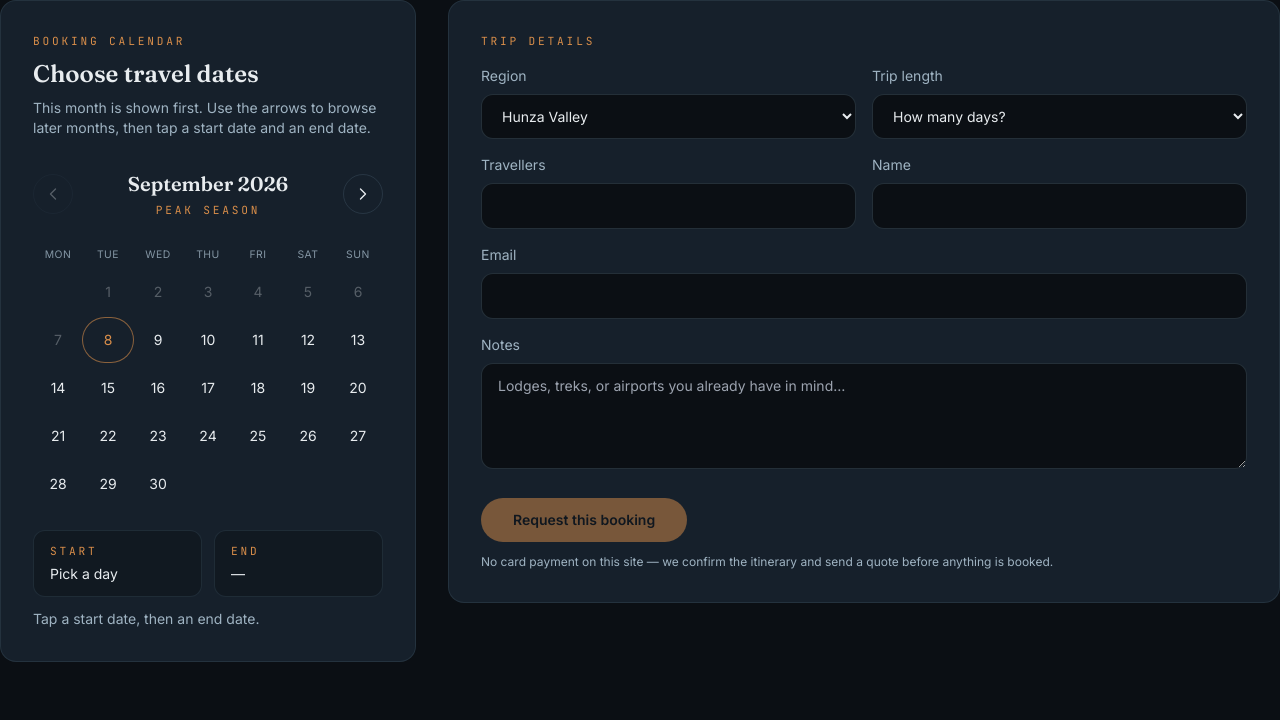
BookingForm calendar › fills start and end chips from a single month
The width and height of the screenshot is (1280, 720).
Click the button "10" at (208, 340), box [183,318,233,362]
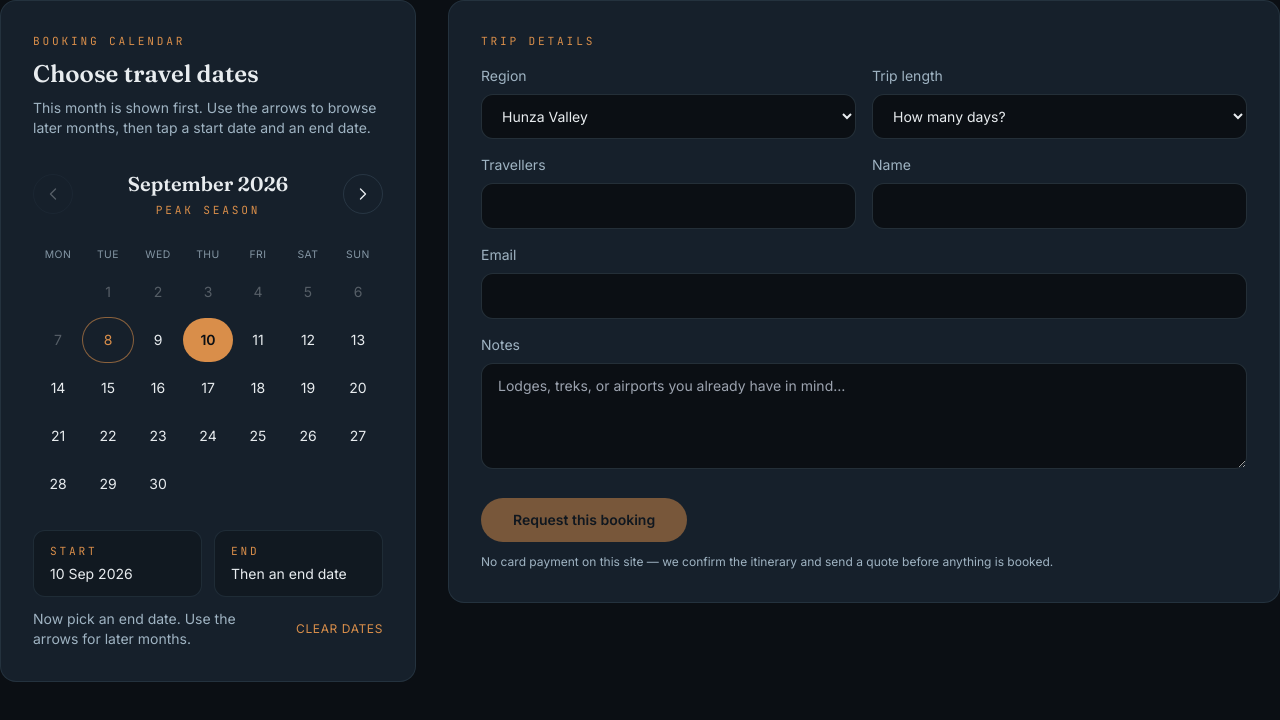
Click the button "16" at (158, 388), box [133,366,183,410]
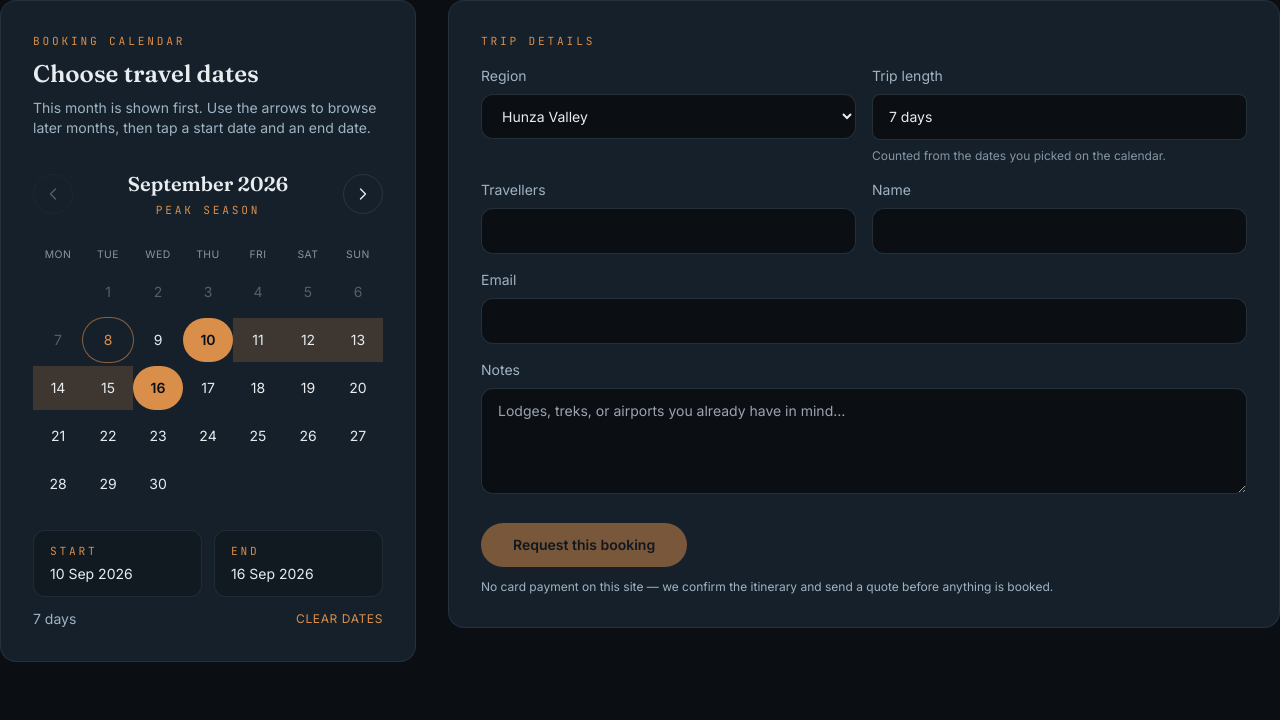
Expected: the text "10 Sep 2026" is shown, [50,565,133,582]
Expected: the text "16 Sep 2026" is shown, [231,565,314,582]
Expected: the field showing "7 days" is shown, [872,94,1247,140]
